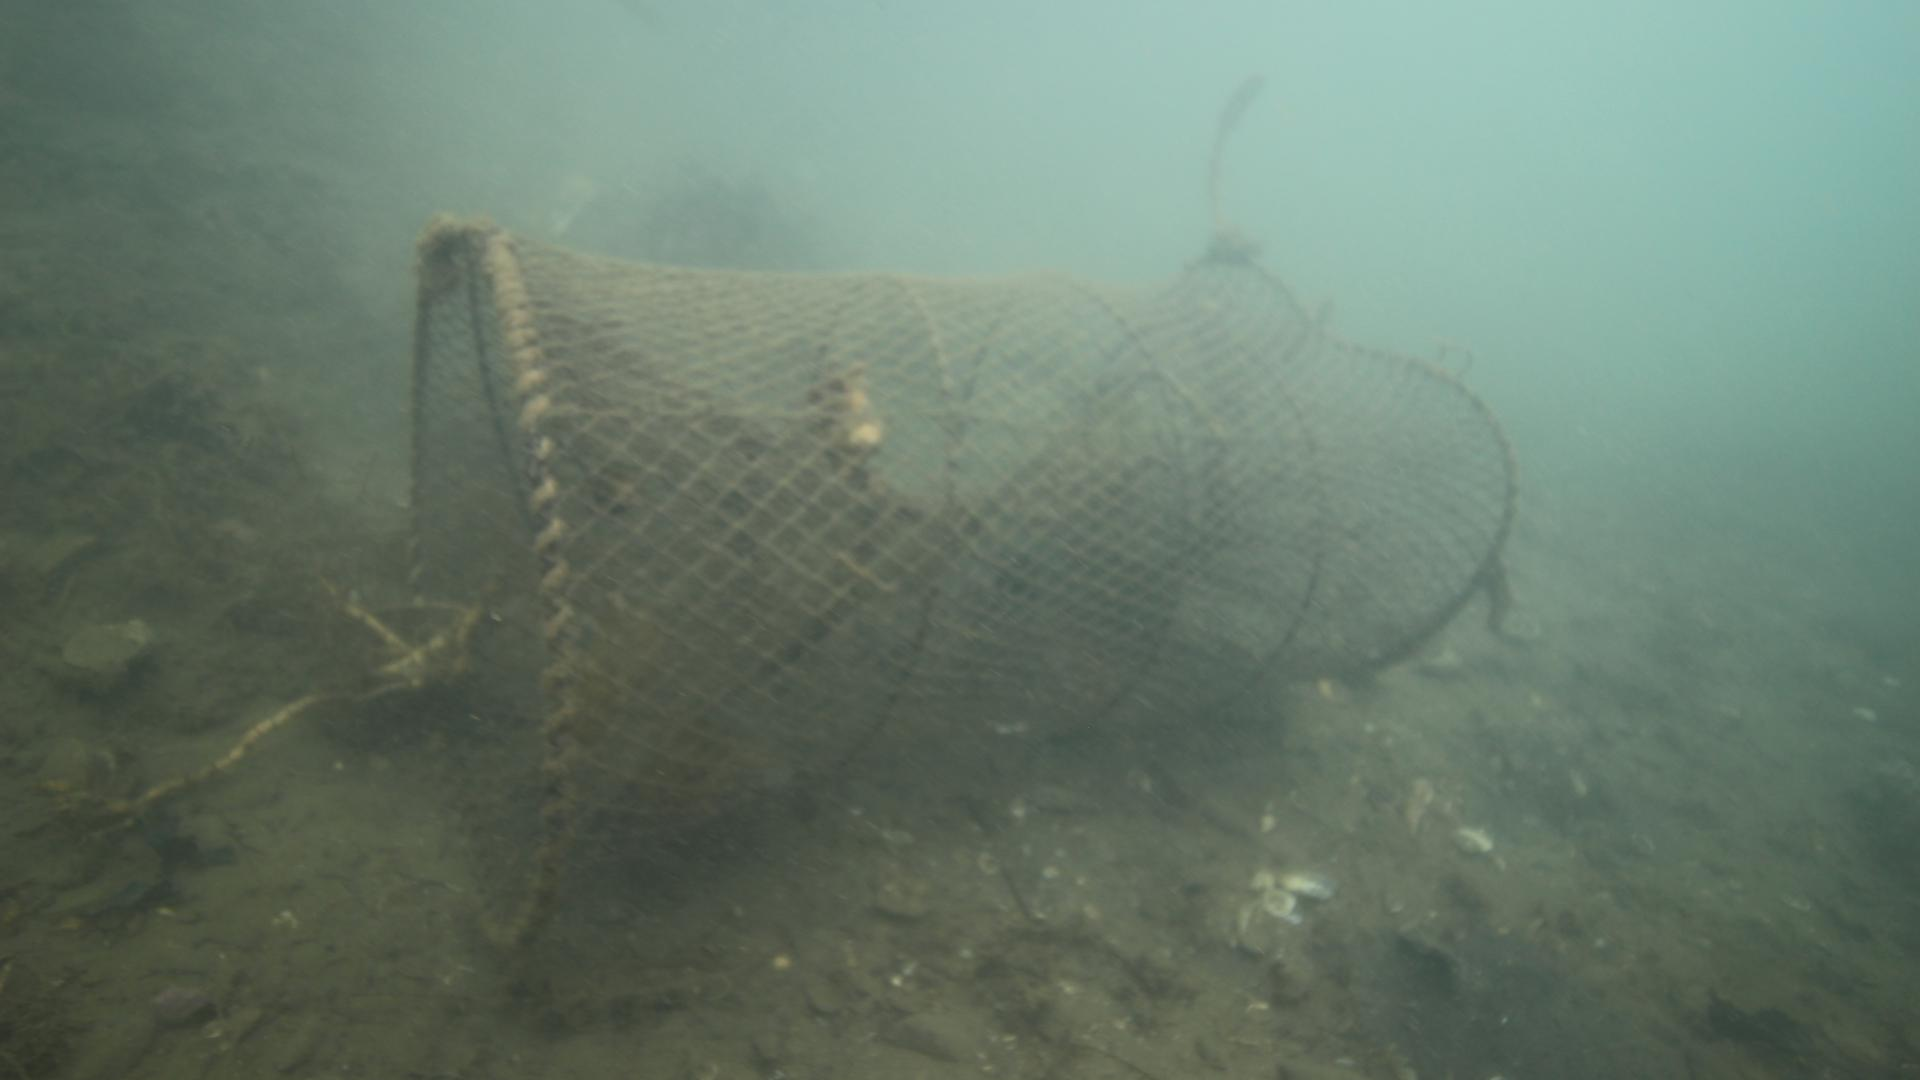spring fish trap: (404, 223, 1523, 955)
